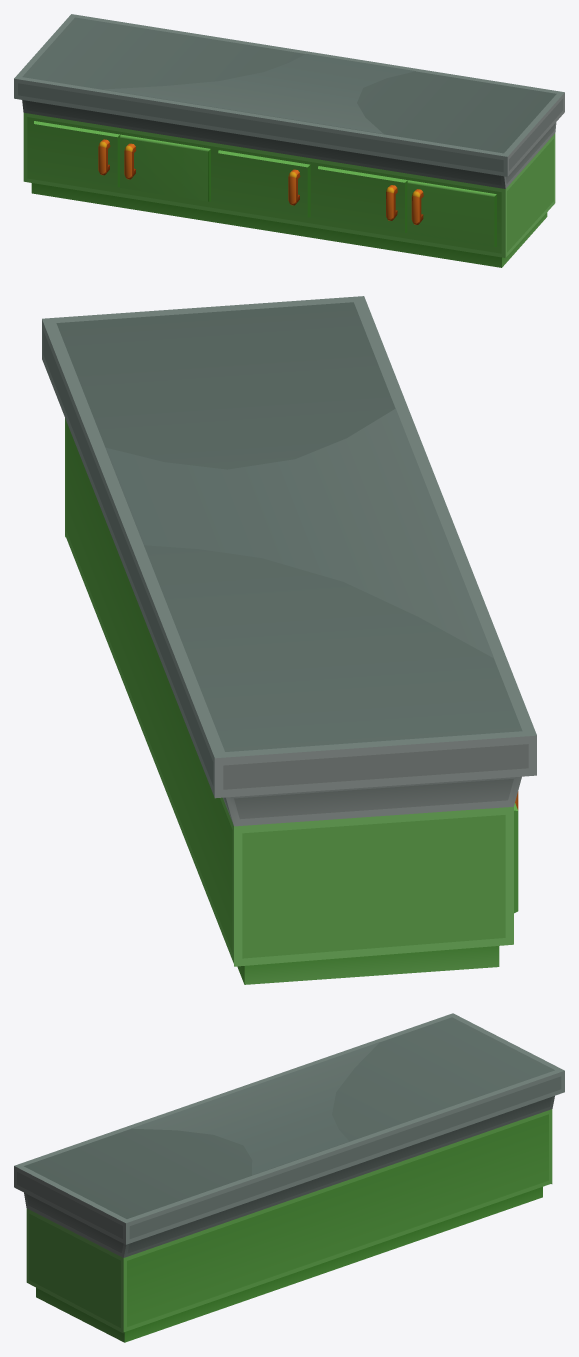
Rendered from RestaurantIsland.fbx.
3 views of the same model, one above another, from view 1: azimuth 30°, elevation 25°; view 2: azimuth 150°, elevation 25°; view 3: azimuth 270°, elevation 25° (orthographic). The views are drawn at different scales.
Parts seen in each view (by area): view 1: RestaurantIsland; view 2: RestaurantIsland; view 3: RestaurantIsland.
Part boxes in pixels (bbox=[...]): RestaurantIsland: bbox=[14, 14, 564, 267]; RestaurantIsland: bbox=[42, 296, 536, 984]; RestaurantIsland: bbox=[14, 1013, 564, 1342].
Size of the model in its own units: 175 by 50.33 by 194.
